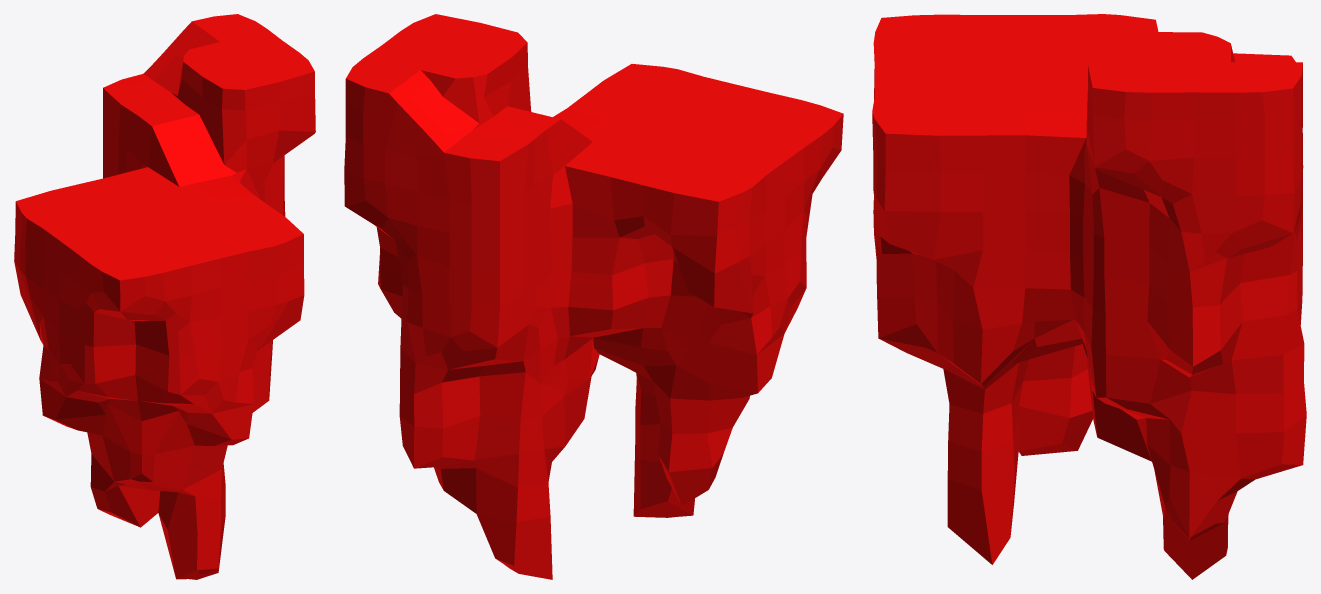
Rendered from IslandCollision.fbx.
The picture shows the model from 3 angles, left to right: view 1: azimuth 30°, elevation 25°; view 2: azimuth 150°, elevation 25°; view 3: azimuth 270°, elevation 25°; orthographic projection. The views are drawn at different scales.
Visible parts, largest first — view 1: Collision; view 2: Collision; view 3: Collision.
Part boxes in pixels (<box>): Collision: <box>14,14,315,579</box>; Collision: <box>344,14,843,579</box>; Collision: <box>872,14,1306,579</box>.
Bounding box in the file's own units: 1532 × 2177 × 1526.
